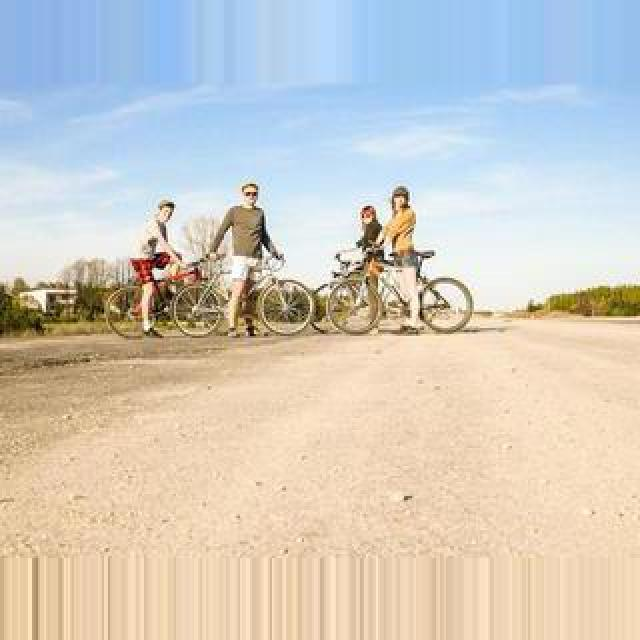MC-Bike: (206, 176, 286, 340), (130, 196, 188, 336), (376, 182, 420, 332), (352, 194, 396, 292), (354, 204, 384, 258)
Person: (324, 248, 474, 334), (173, 249, 315, 337), (106, 256, 220, 340), (311, 253, 373, 331)
